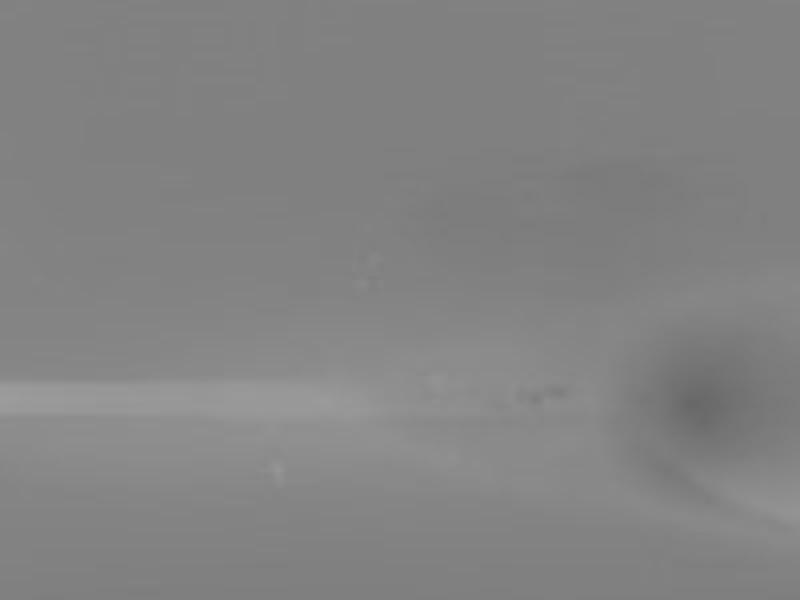defect: (638, 358, 753, 452), (520, 387, 541, 404), (549, 384, 563, 399)
